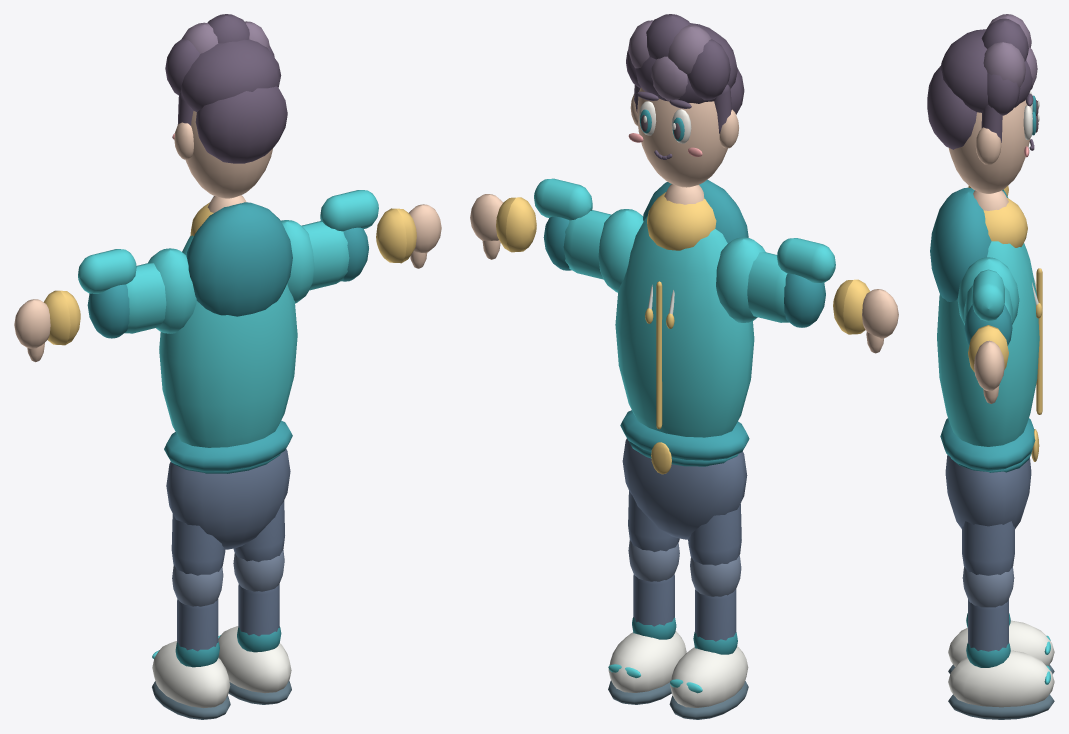
File: kit-player-anime.glb
3 views of the same model, side by side, from view 1: azimuth 30°, elevation 25°; view 2: azimuth 150°, elevation 25°; view 3: azimuth 270°, elevation 25° (orthographic).
Visible parts, largest first — view 1: Hoodie torso, Hood, Shorts, Hair back, Hair cap, L_Shoe, Hoodie hem, R_Shoe, Face, L_Shoulder, L_Thigh, L_Upper sleeve (+22 smaller); view 2: Hoodie torso, Shorts, Face, L_Shoe, R_Shoe, Hoodie hem, Collar, L_Shoulder, R_Shoulder, L_Thigh, L_Upper sleeve, R_Upper sleeve (+23 smaller); view 3: Hoodie torso, Hood, Shorts, R_Shoe, Face, Hair cap, R_Thigh, Hoodie hem, Hair back, R_Shin, L_Shoe, R_Knee (+20 smaller).
Boxes of the visible parts, <box> form: Hoodie torso: <box>159,235,297,447</box>; Hood: <box>186,202,292,316</box>; Shorts: <box>166,449,290,549</box>; Hair back: <box>195,86,287,163</box>; Hair cap: <box>181,39,281,111</box>; L_Shoe: <box>152,641,230,708</box>; Hoodie hem: <box>164,420,292,471</box>; R_Shoe: <box>218,626,291,693</box>; Face: <box>185,111,272,198</box>; L_Shoulder: <box>148,248,196,333</box>; L_Thigh: <box>171,514,225,575</box>; L_Upper sleeve: <box>124,263,166,333</box>; Hoodie torso: <box>615,215,754,437</box>; Shorts: <box>622,438,747,539</box>; Face: <box>637,87,727,187</box>; L_Shoe: <box>670,646,748,707</box>; R_Shoe: <box>608,631,686,692</box>; Hoodie hem: <box>620,410,749,460</box>; Collar: <box>647,192,716,250</box>; L_Shoulder: <box>716,237,765,322</box>; R_Shoulder: <box>598,209,643,292</box>; L_Thigh: <box>688,504,741,565</box>; L_Upper sleeve: <box>747,252,788,322</box>; R_Upper sleeve: <box>563,210,611,279</box>; Hoodie torso: <box>937,241,1039,446</box>; Hood: <box>930,187,991,301</box>; Shorts: <box>945,455,1031,528</box>; R_Shoe: <box>948,650,1054,707</box>; Face: <box>948,100,1030,193</box>; Hair cap: <box>940,29,1032,112</box>; R_Thigh: <box>962,521,1014,575</box>; Hoodie hem: <box>940,418,1035,470</box>; Hair back: <box>927,66,976,149</box>; R_Shin: <box>968,600,1008,651</box>; L_Shoe: <box>948,620,1054,666</box>; R_Knee: <box>962,567,1014,607</box>.
Bounding box in the file's own units: 2.84 × 4.36 × 0.7409.
